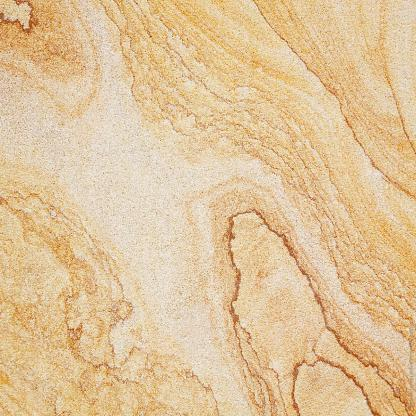Sedimentary_Sandstone: (0, 5, 414, 416)
